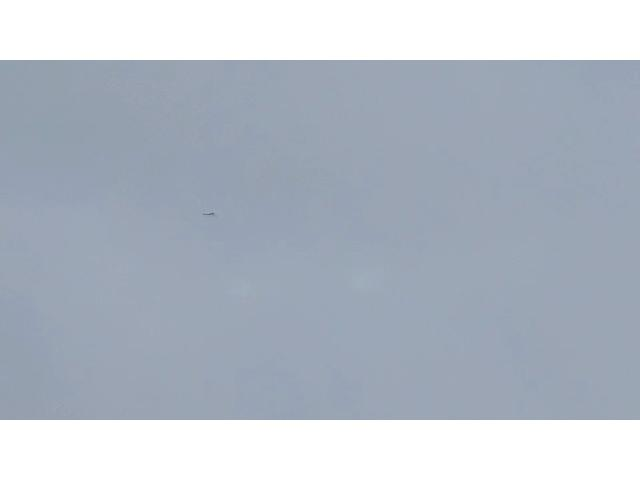Anti-Drone: (202, 212, 220, 218)
